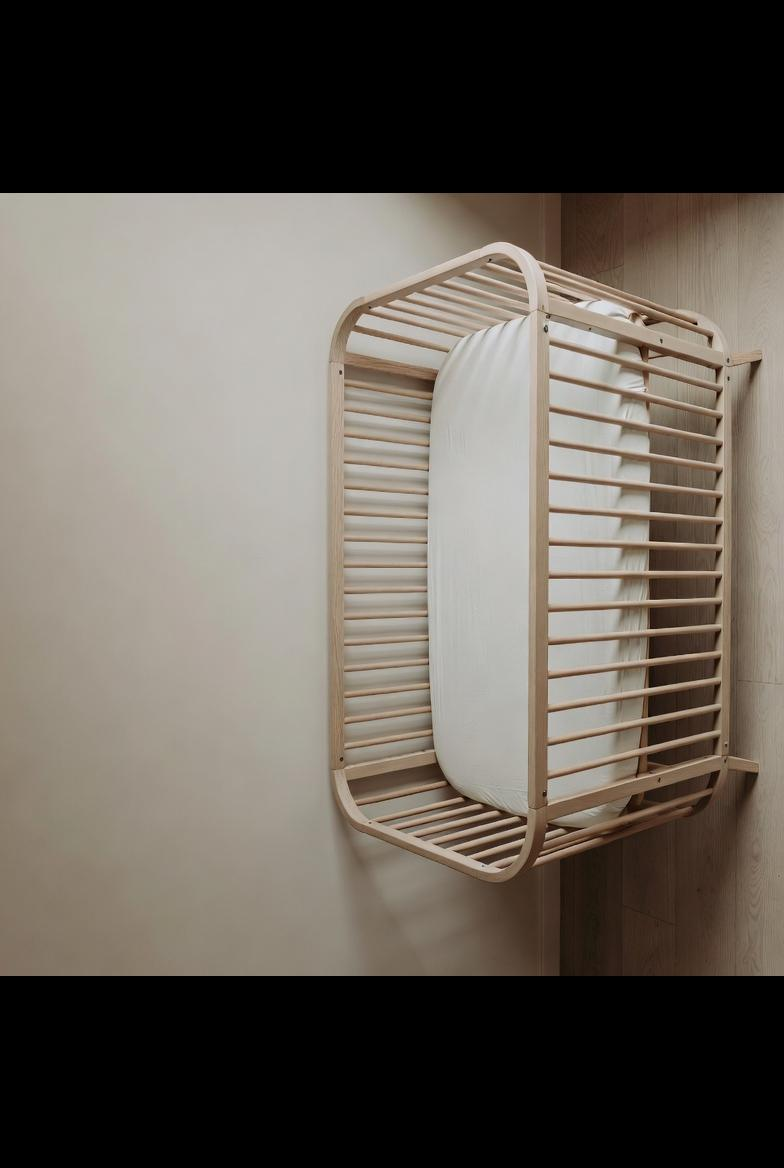crib: (329, 243, 759, 880)
